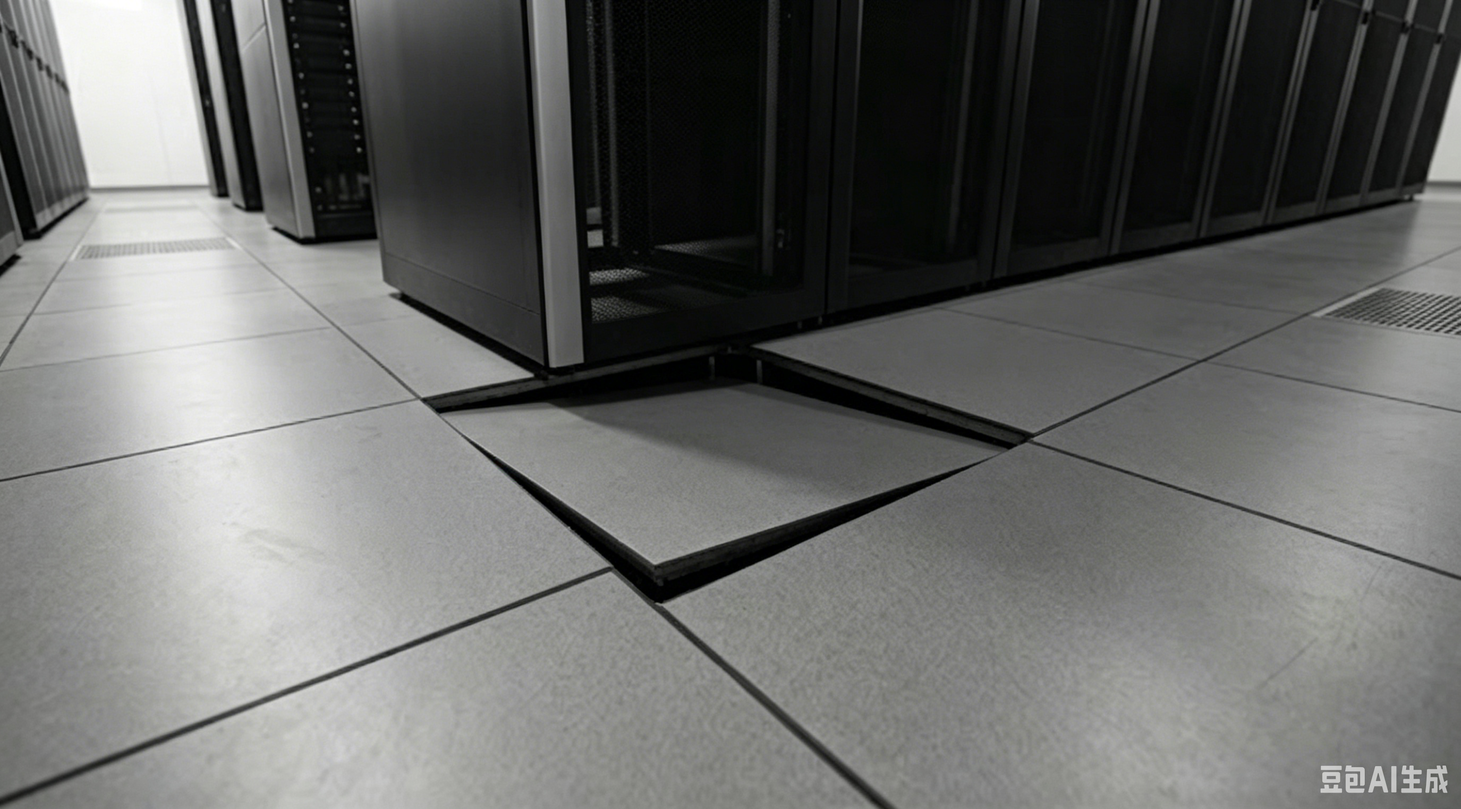floor_defect: (421, 336, 1041, 614)
